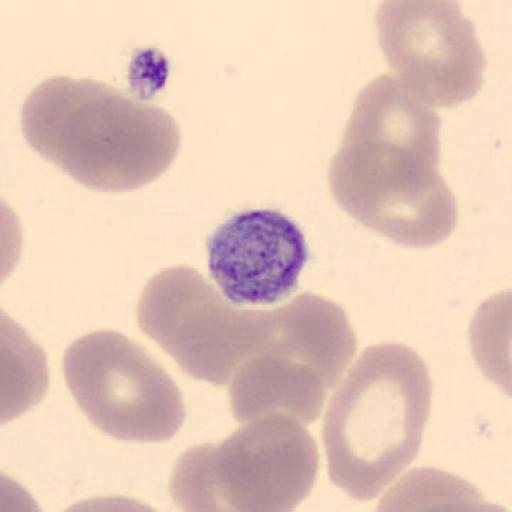Platelet: (204, 206, 314, 307)
RBC: (226, 290, 359, 428), (321, 340, 434, 502), (137, 264, 273, 388), (329, 78, 443, 217), (60, 326, 187, 446), (326, 138, 460, 251), (56, 77, 182, 195), (374, 0, 488, 109), (340, 70, 442, 188), (22, 73, 147, 167), (19, 72, 119, 185), (214, 412, 321, 512), (326, 138, 428, 240), (354, 159, 460, 250), (228, 353, 327, 433), (19, 73, 95, 164), (326, 137, 409, 220), (168, 440, 262, 512), (370, 465, 508, 512), (2, 311, 52, 427), (468, 286, 512, 400), (46, 493, 176, 512), (0, 193, 24, 289), (1, 471, 47, 512)
